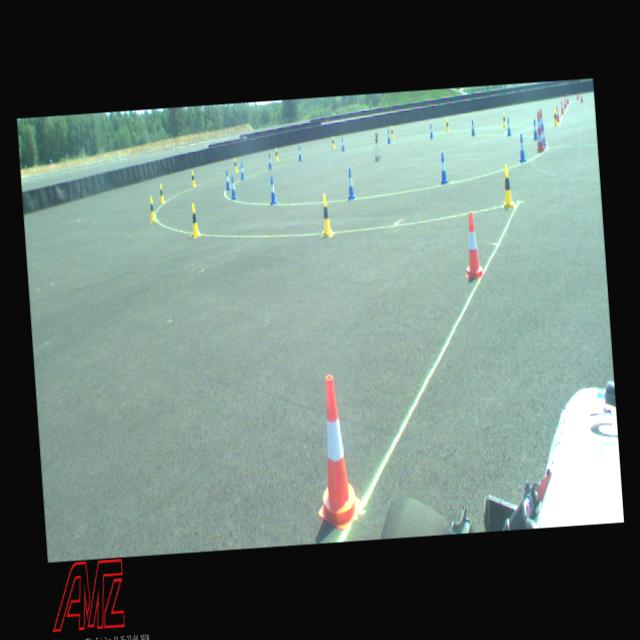blue_cone: (345, 167, 355, 199), (438, 152, 448, 183), (268, 176, 277, 204), (517, 134, 526, 162), (229, 175, 237, 199), (540, 124, 546, 148), (532, 118, 538, 139), (224, 169, 230, 189), (470, 119, 475, 136), (267, 153, 272, 170), (428, 123, 433, 139), (506, 118, 510, 136), (297, 146, 302, 160), (386, 129, 391, 143), (240, 162, 244, 179), (340, 136, 344, 150)
large_orange_cone: (534, 111, 544, 151), (539, 108, 546, 146)
orange_cone: (308, 373, 362, 532), (461, 211, 484, 278), (554, 105, 560, 122), (560, 100, 564, 113), (563, 96, 567, 108), (579, 90, 583, 102), (566, 93, 568, 103)
unknown_cone: (576, 90, 578, 100)
yellow_cone: (499, 164, 515, 208), (318, 193, 332, 237), (188, 202, 200, 237), (148, 196, 156, 221), (158, 183, 164, 203), (190, 169, 196, 187), (552, 108, 558, 125), (501, 111, 506, 128), (389, 125, 394, 138), (233, 157, 237, 171), (445, 118, 449, 132), (330, 135, 334, 148), (274, 147, 278, 160)
